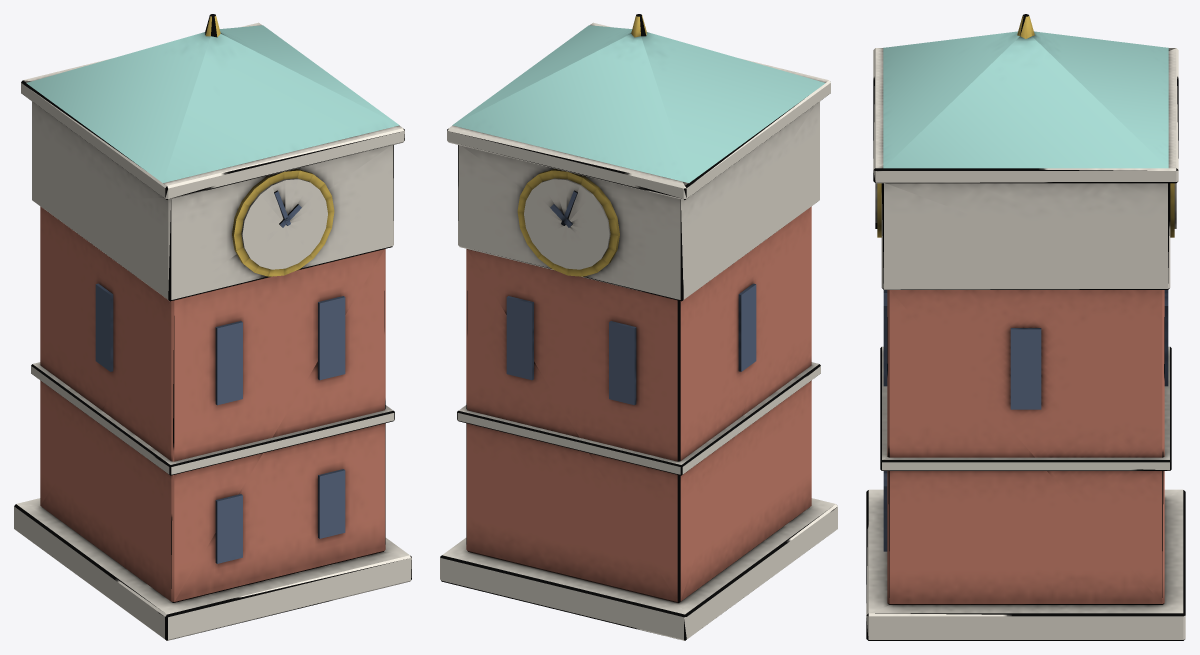
File: clock_tower.obj
3 views of the same model, side by side, from view 1: azimuth 30°, elevation 25°; view 2: azimuth 150°, elevation 25°; view 3: azimuth 270°, elevation 25° (orthographic). The views are drawn at different scales.
Visible parts, largest first — view 1: shaft, roof, clock_housing, base, cornice, clock_face_front, belt_course, clock_rim_front, slit_zp_r, slit_zp_l, door_slit_l, door_slit_r (+1 smaller); view 2: shaft, roof, clock_housing, base, cornice, clock_face_back, belt_course, clock_rim_back, slit_zm_r, slit_zm_l, slit_x_l; view 3: shaft, roof, clock_housing, base, cornice, belt_course, slit_x_r, slit_zm_r, slit_zp_r.
Boxes of the visible parts, x1,y1,x2,y2 form: shaft: [40, 206, 385, 602]; roof: [26, 25, 399, 182]; clock_housing: [32, 101, 393, 301]; base: [14, 498, 411, 640]; cornice: [21, 22, 404, 200]; clock_face_front: [241, 178, 327, 269]; belt_course: [31, 362, 394, 475]; clock_rim_front: [232, 169, 334, 276]; slit_zp_r: [318, 296, 345, 380]; slit_zp_l: [215, 321, 242, 405]; door_slit_l: [215, 494, 242, 563]; door_slit_r: [318, 469, 345, 538]; shaft: [466, 206, 811, 602]; roof: [452, 25, 825, 182]; clock_housing: [458, 101, 819, 301]; base: [440, 498, 837, 640]; cornice: [447, 22, 830, 200]; clock_face_back: [524, 178, 610, 269]; belt_course: [457, 362, 820, 475]; clock_rim_back: [517, 169, 619, 276]; slit_zm_r: [506, 296, 533, 380]; slit_zm_l: [609, 321, 636, 405]; slit_x_l: [738, 283, 756, 371]; shaft: [887, 290, 1164, 604]; roof: [883, 31, 1168, 168]; clock_housing: [881, 183, 1170, 289]; base: [866, 489, 1185, 640]; cornice: [873, 48, 1178, 183]; belt_course: [880, 346, 1171, 470]; slit_x_r: [1010, 328, 1041, 409]; slit_zm_r: [1164, 293, 1168, 386]; slit_zp_r: [883, 293, 887, 386].
Bounding box in the file's own units: 5.3 × 11.1 × 5.7.
